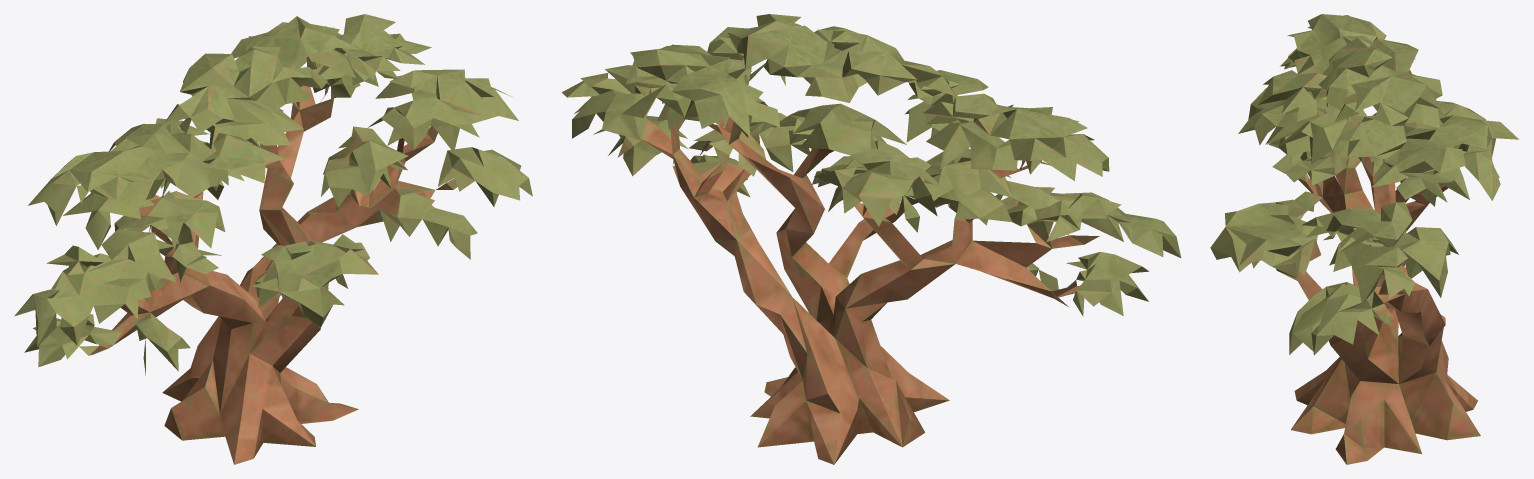
The model's file is plants-acacia.glb.
3 renders of one model, left to right at view 1: azimuth 30°, elevation 25°; view 2: azimuth 150°, elevation 25°; view 3: azimuth 270°, elevation 25°, orthographic. The views are drawn at different scales.
Size of the model in its own units: 1.9 by 1.25 by 0.9397.
Materials: 1 (1 with a texture image).
